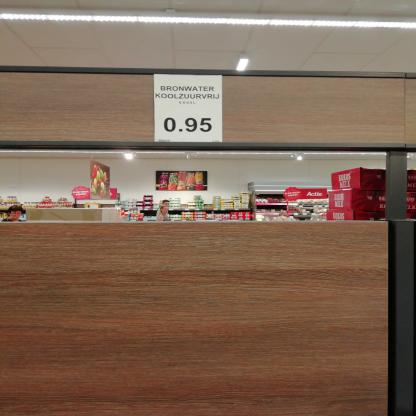prtg: (154, 75, 225, 143)
